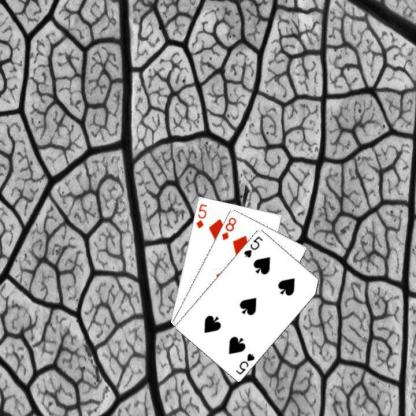5D: (194, 201, 208, 229)
5S: (241, 233, 264, 259), (233, 350, 256, 376)
8D: (219, 214, 237, 242)
